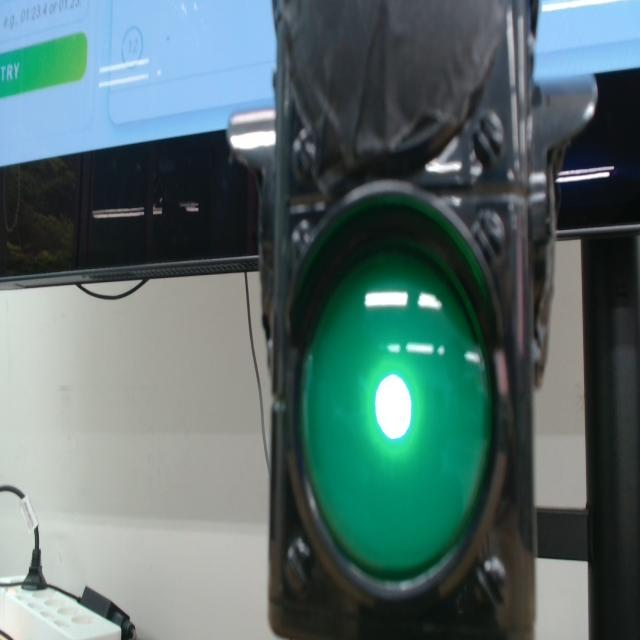green_light: (301, 250, 491, 580), (375, 374, 411, 439)
